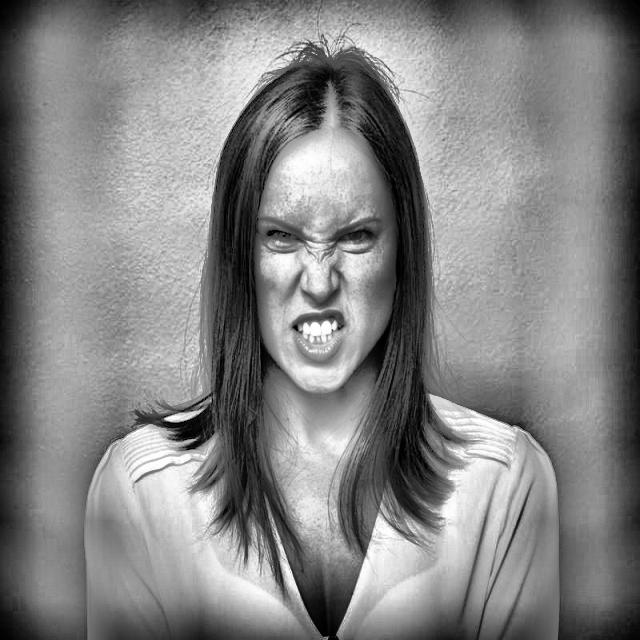angry: (191, 46, 456, 407)
